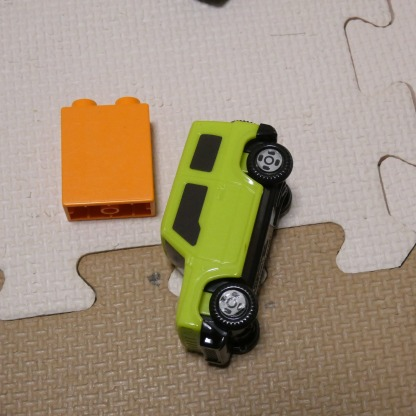car: (160, 110, 296, 369)
